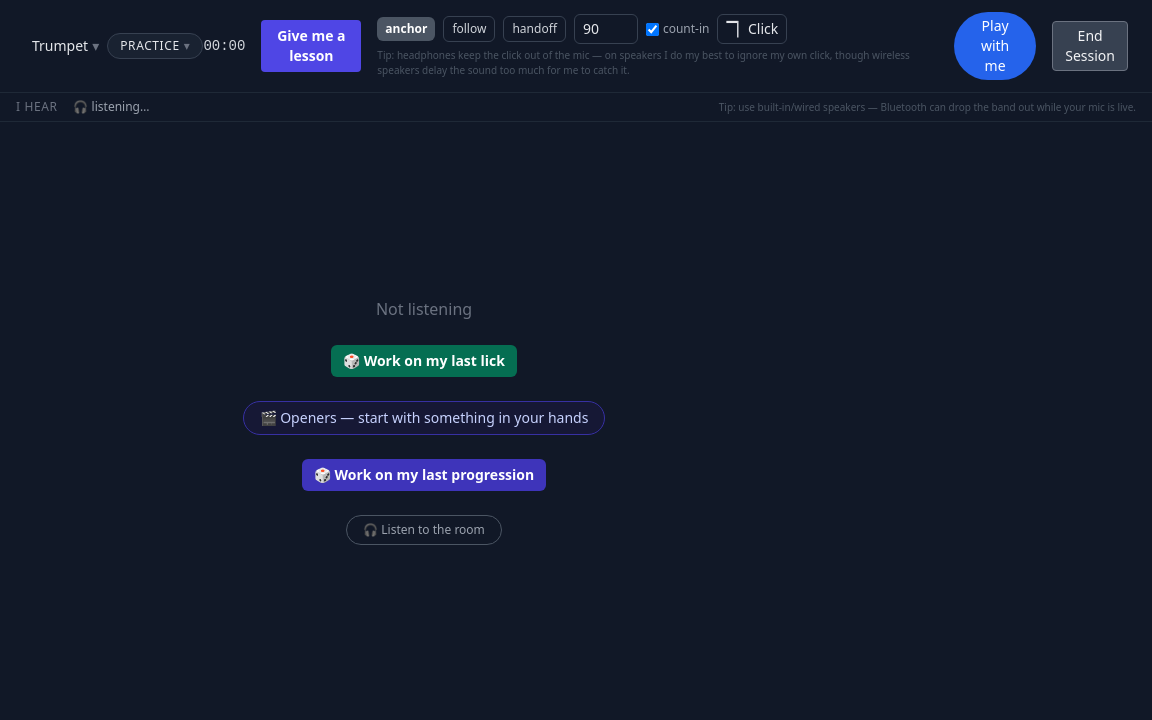
it: PracticeSession › toggles the instrument-switch menu on click
Click the button with test id "instrument-switch-button". click: x=66, y=46
box: left=24, top=32, right=107, bottom=60
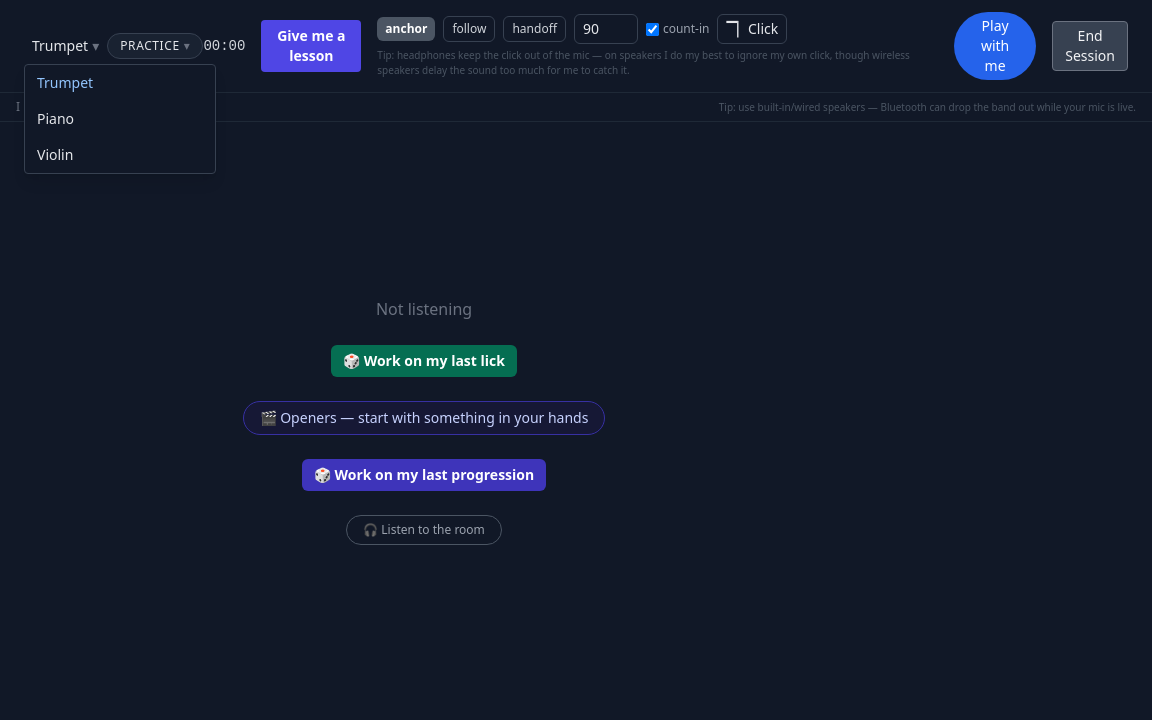
Now the list with test id "instrument-switch-menu" is shown, box left=24, top=64, right=216, bottom=174
Click the button with test id "instrument-switch-button". click: x=66, y=46
box: left=24, top=32, right=107, bottom=60
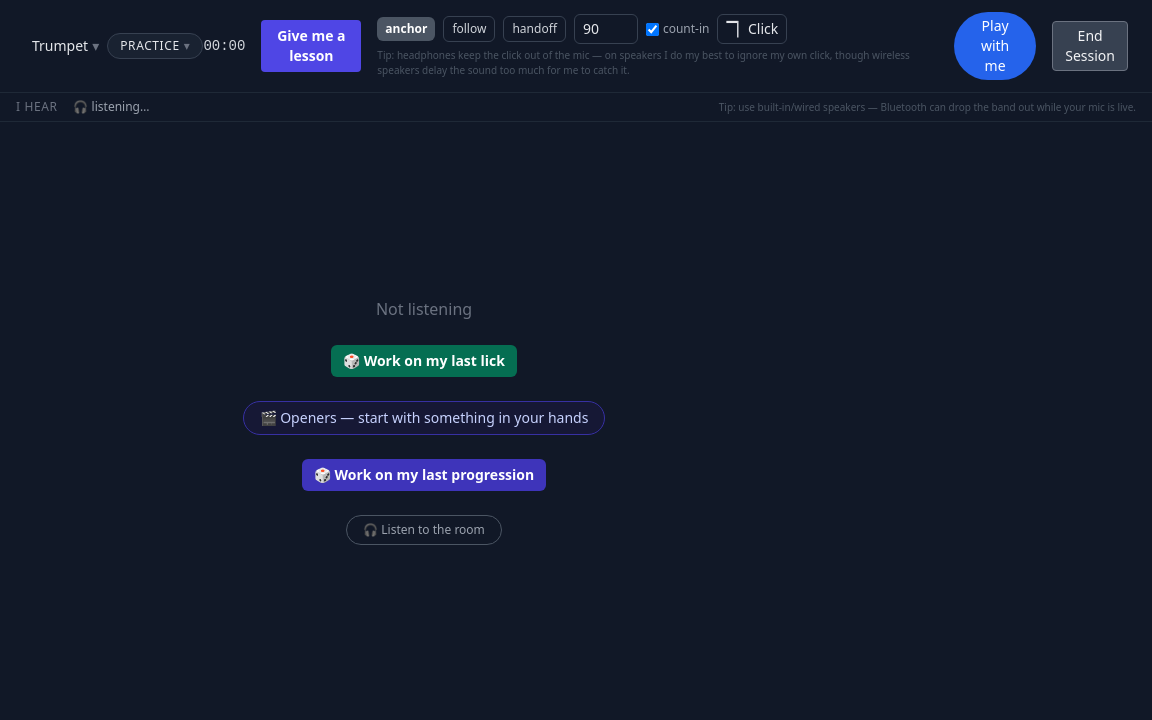
Now the list with test id "instrument-switch-menu" is gone
